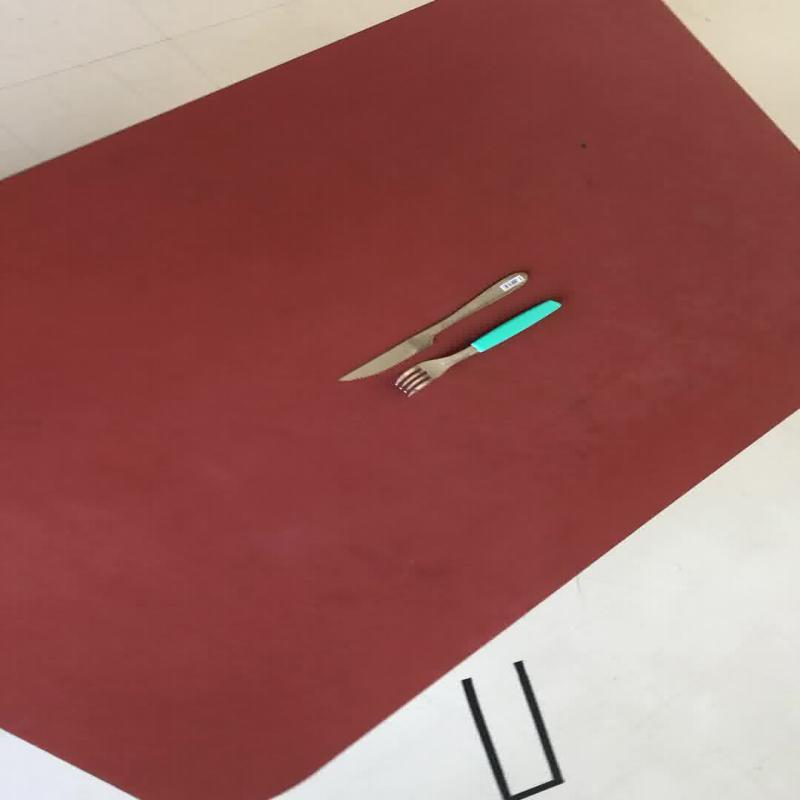fork: (391, 298, 562, 397)
knife: (335, 268, 529, 382), (391, 298, 562, 398)
